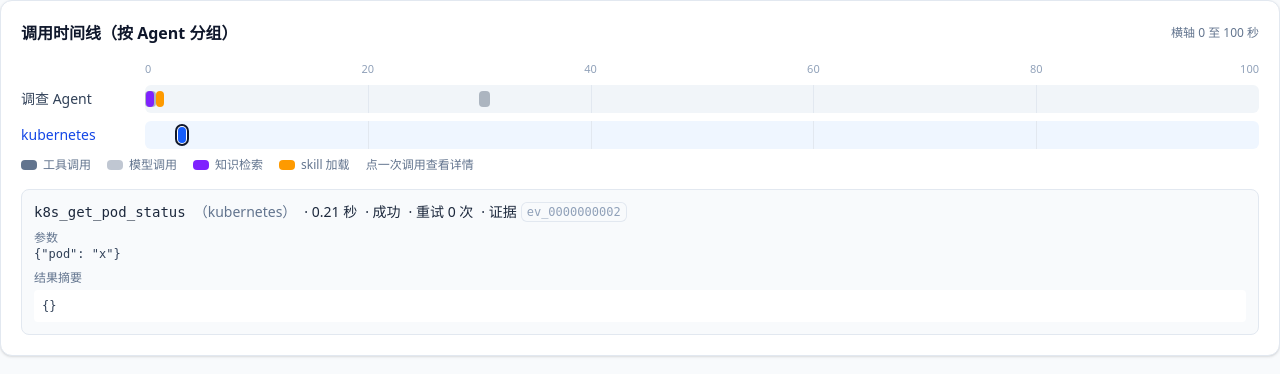
Test case: CallTimeline › names the loading of a skill again
Click the button named "investigate-pod-restarts，" at (160, 99), box top-left (156, 91), bottom-right (164, 107)
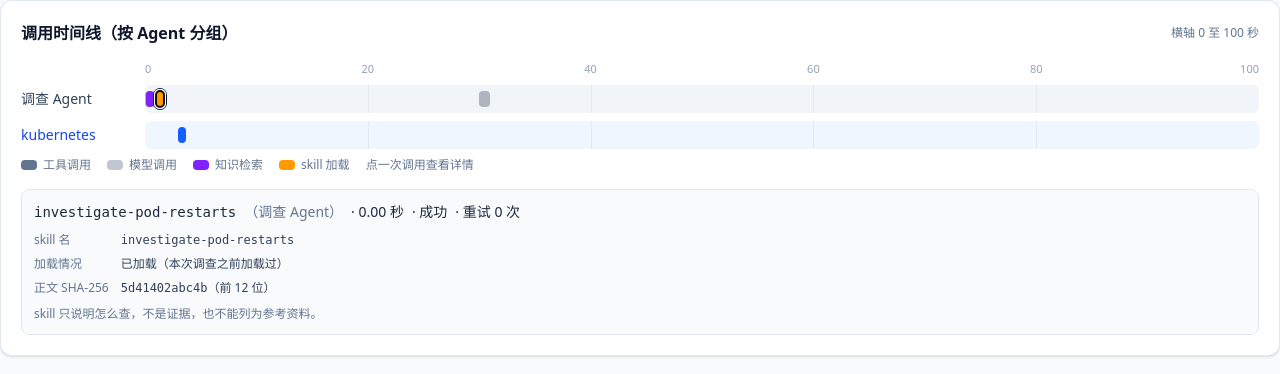
Expected: the element with test id "call-detail" shows "已加载（本次调查之前加载过）", top-left (121, 255), bottom-right (289, 272)
